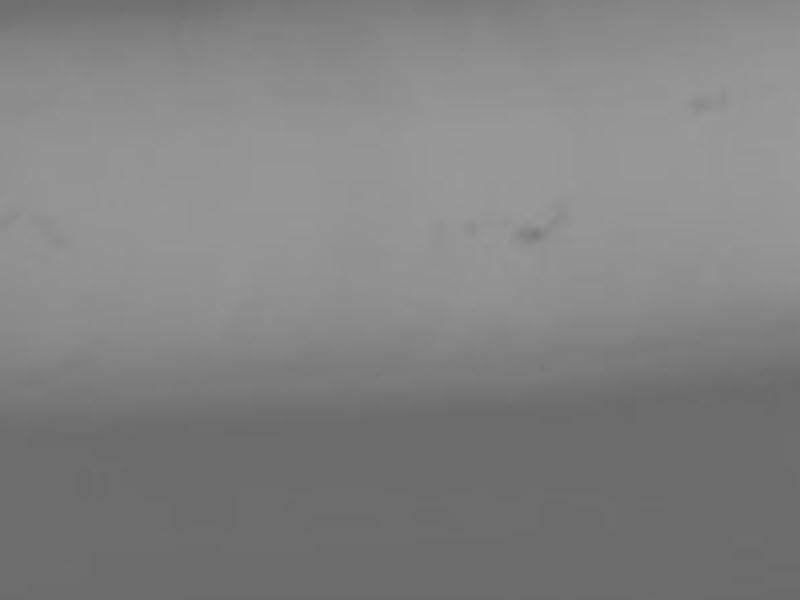defect: (510, 223, 550, 246), (547, 193, 574, 223), (689, 92, 713, 116), (458, 216, 479, 242), (713, 83, 734, 109)
